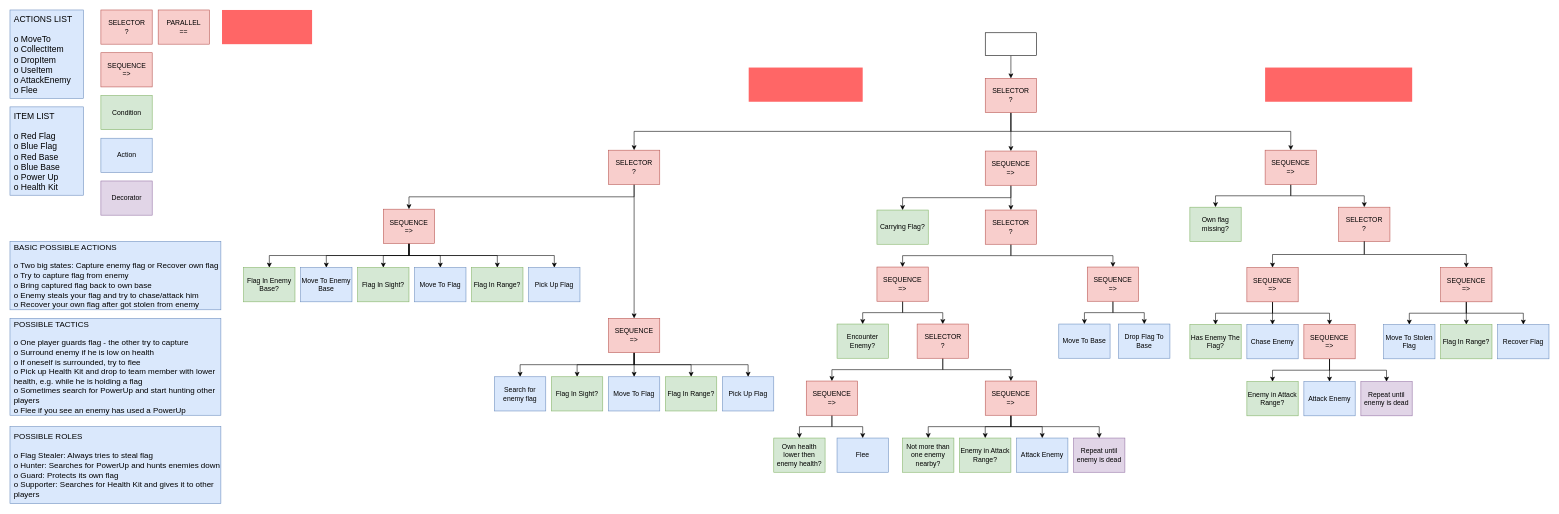
Image size: 1559x514. Some labels were removed from this diagram. Each missing label, with the box of its shape:
CAPTURE FLAG: (748, 67, 862, 101)
RECOVERING FLAG: (1265, 67, 1412, 101)
Root: (985, 32, 1037, 56)
TEXT NOTE: (222, 10, 312, 44)
